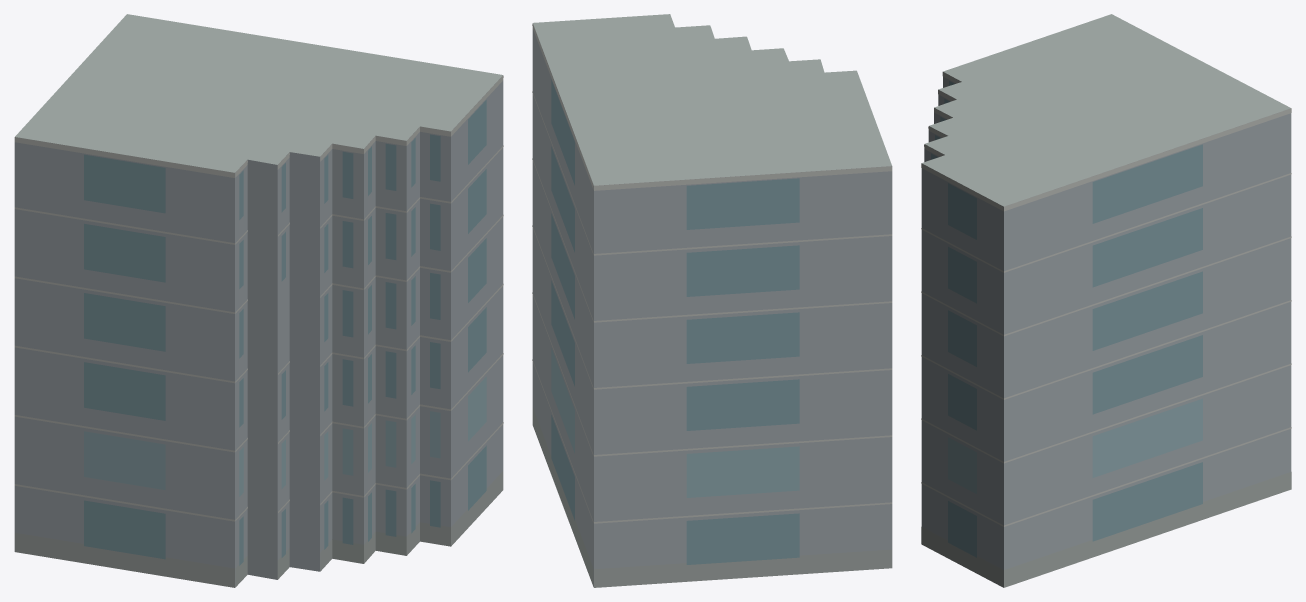
The model's file is survey-upis-32717810.glb.
The picture shows the model from 3 angles, left to right: view 1: azimuth 30°, elevation 25°; view 2: azimuth 150°, elevation 25°; view 3: azimuth 270°, elevation 25°; orthographic projection. The views are drawn at different scales.
Visible parts, largest first — view 1: survey-upis-32717810.tmp; view 2: survey-upis-32717810.tmp; view 3: survey-upis-32717810.tmp.
Boxes of the visible parts, x1,y1,x2,y2 form: survey-upis-32717810.tmp: [14, 14, 503, 587]; survey-upis-32717810.tmp: [532, 14, 892, 587]; survey-upis-32717810.tmp: [921, 14, 1291, 587].
Bounding box in the file's own units: 20.77 × 19.15 × 16.86.
